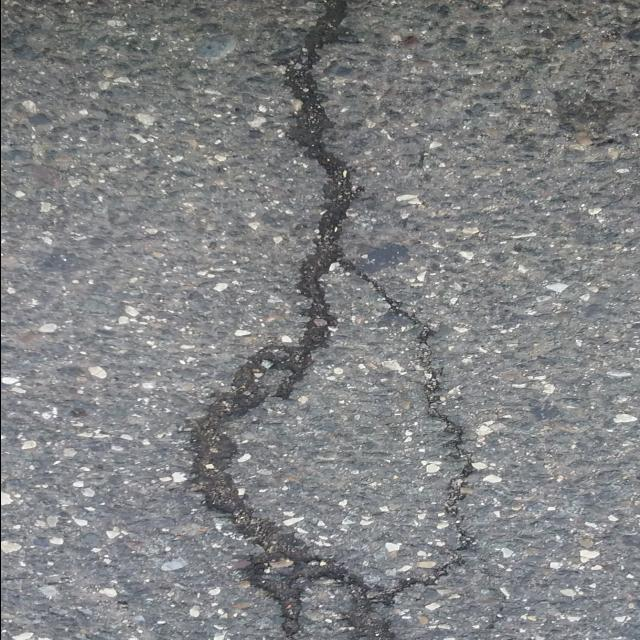Crack: (183, 0, 463, 640)
